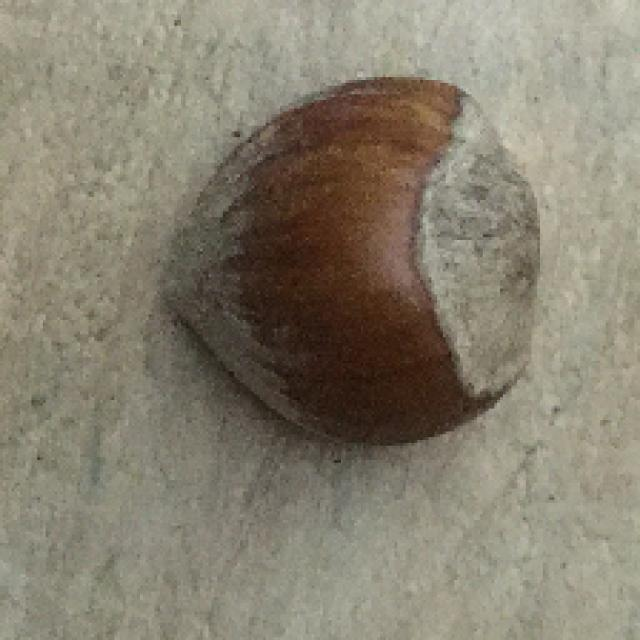QualityHazelnut: (165, 71, 545, 448)
